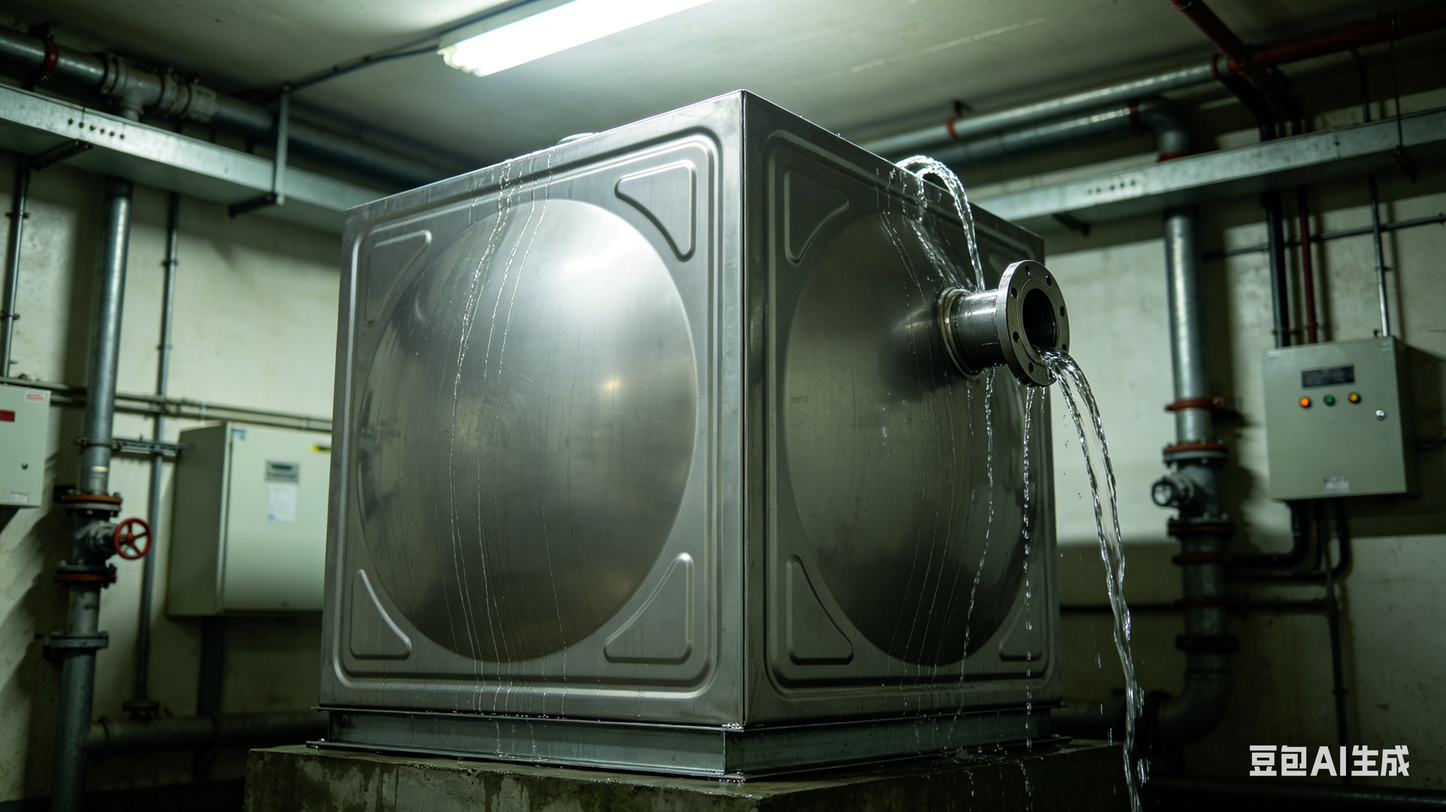Leakage: (978, 324, 1170, 809), (457, 150, 563, 767), (876, 140, 1000, 312)
